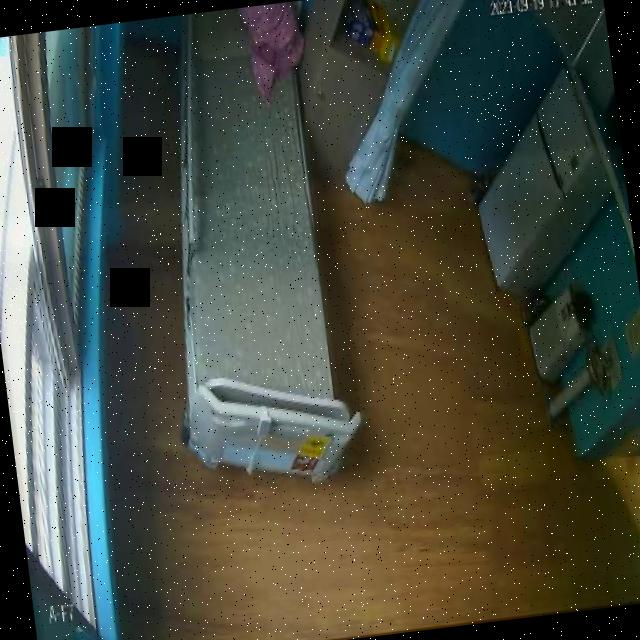bed: (138, 0, 369, 502)
